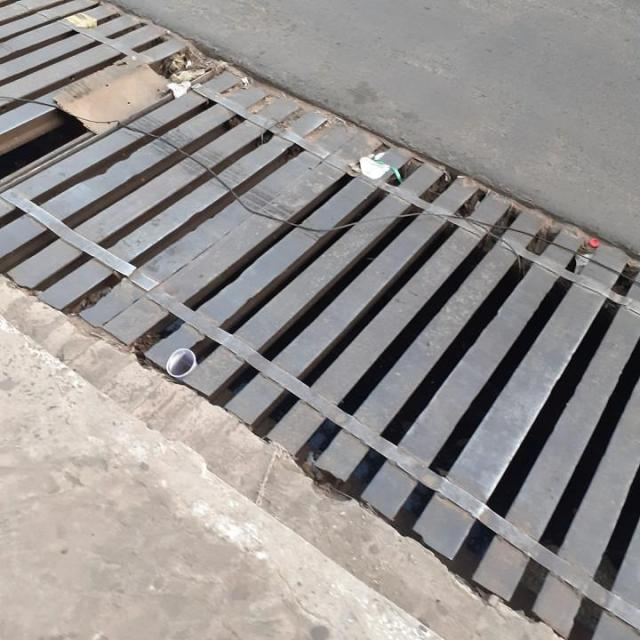litter: (51, 53, 184, 139), (356, 155, 408, 185), (164, 348, 200, 380), (587, 236, 603, 250)
